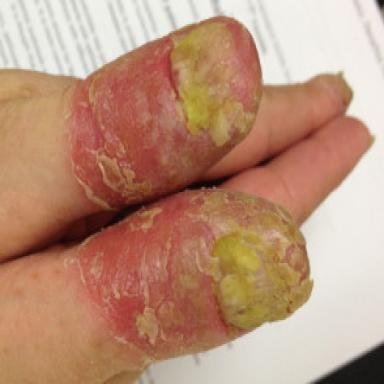eczema: (78, 190, 312, 357), (64, 18, 263, 213), (316, 73, 353, 103)
